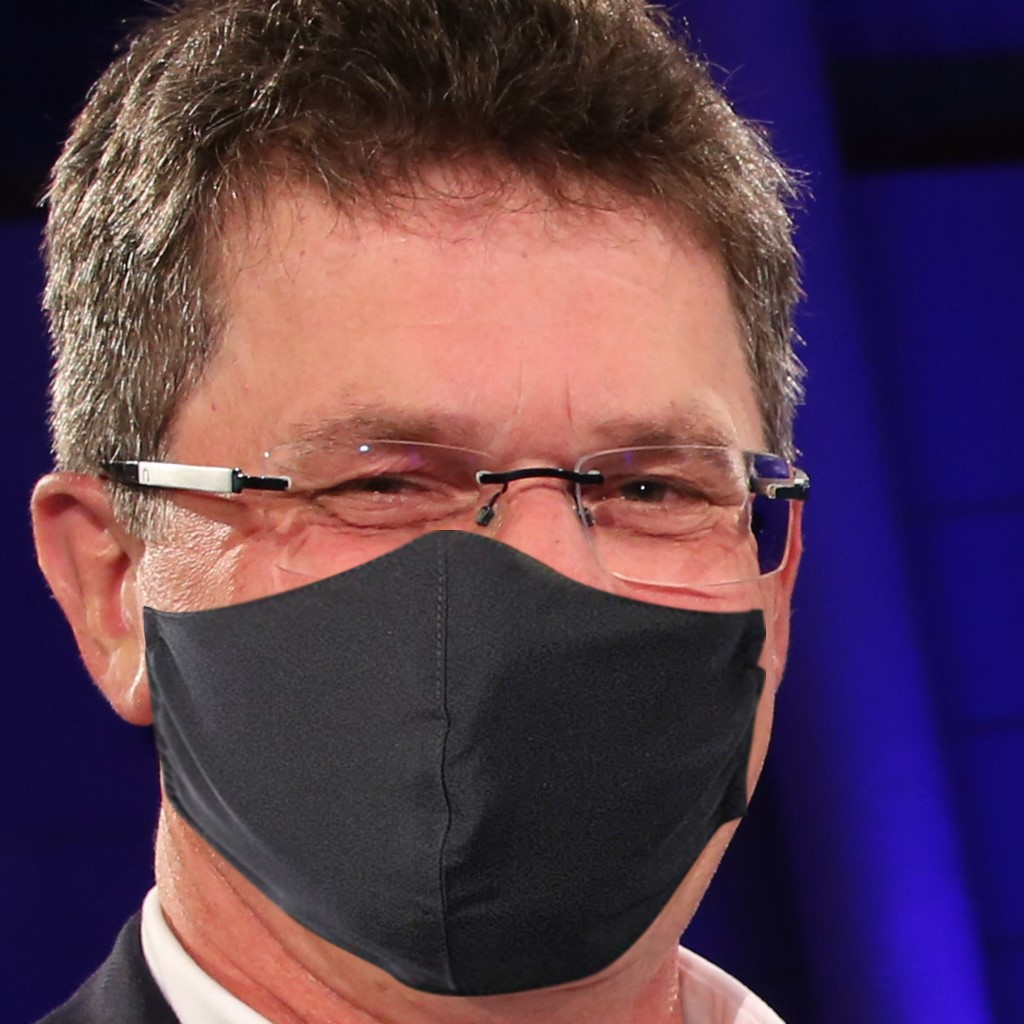con_mascara: (63, 157, 785, 943)
